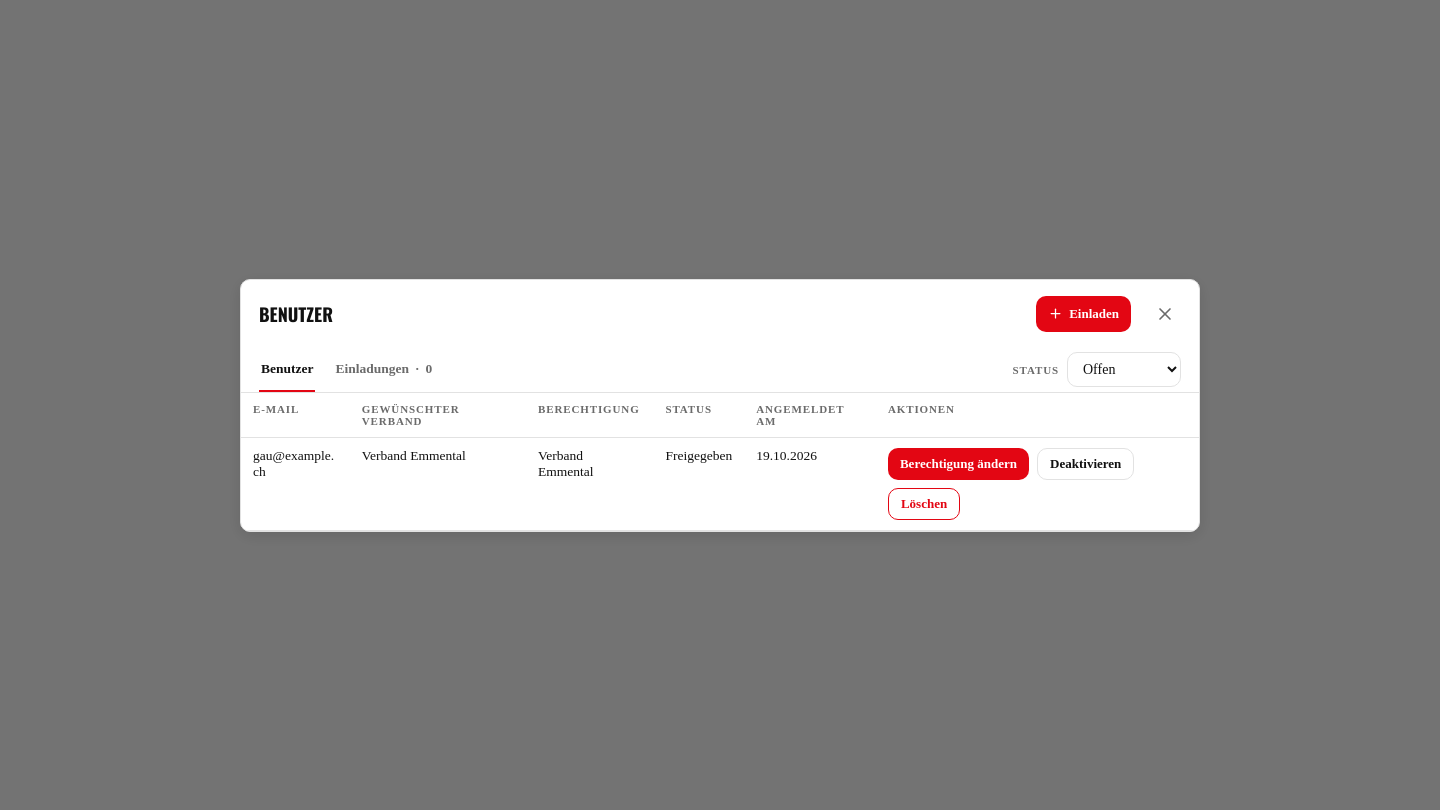
Test: AccountsPanel › asks before deleting an account
This screenshot has width=1440, height=810.
What coordinates should you click on to do the following:
click the button "Löschen"
I would click on:
 (924, 504)
Its box is [888,488,960,520].
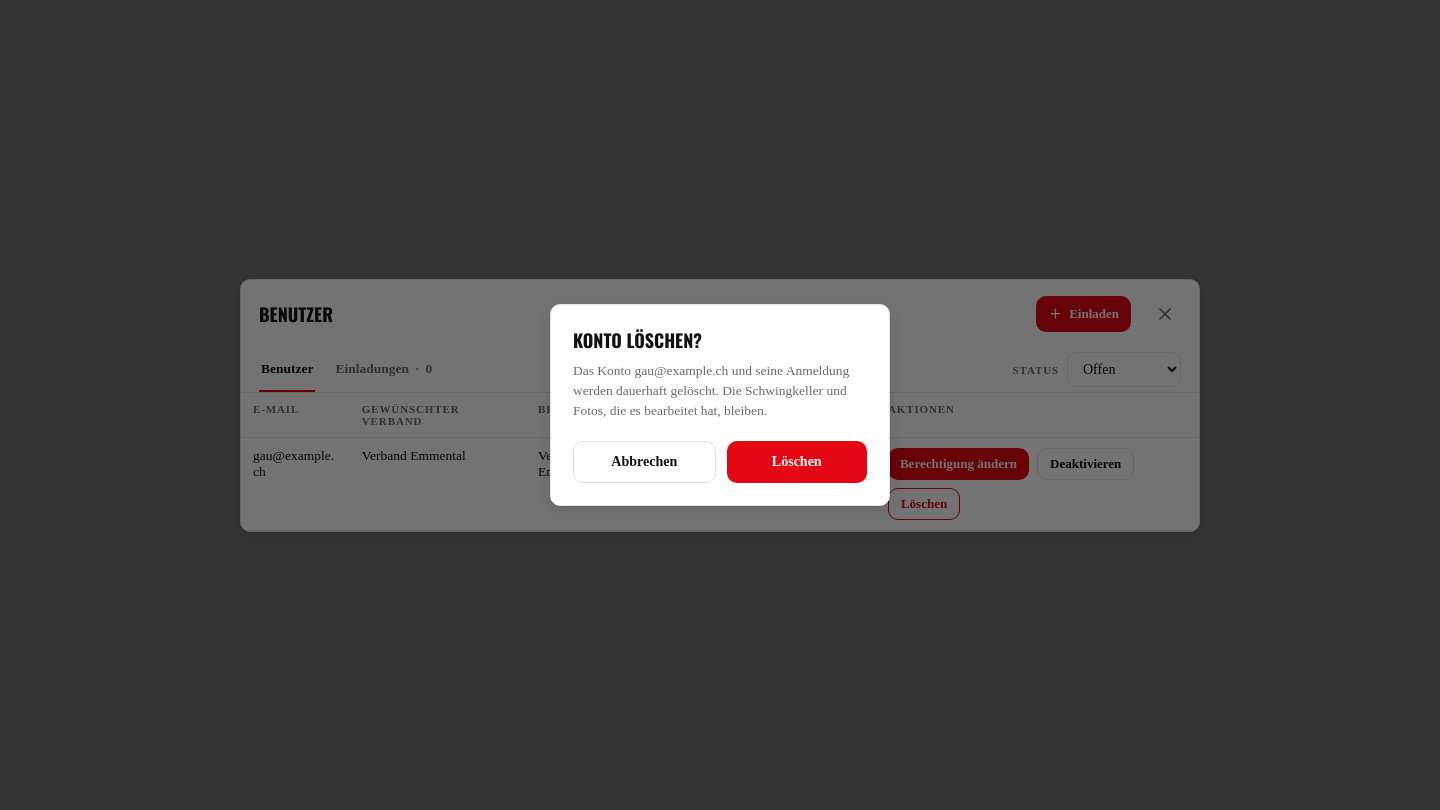
expect the element with test id "delete-account-dialog" shows "gau@example.ch": met, box [573,363,849,418]
